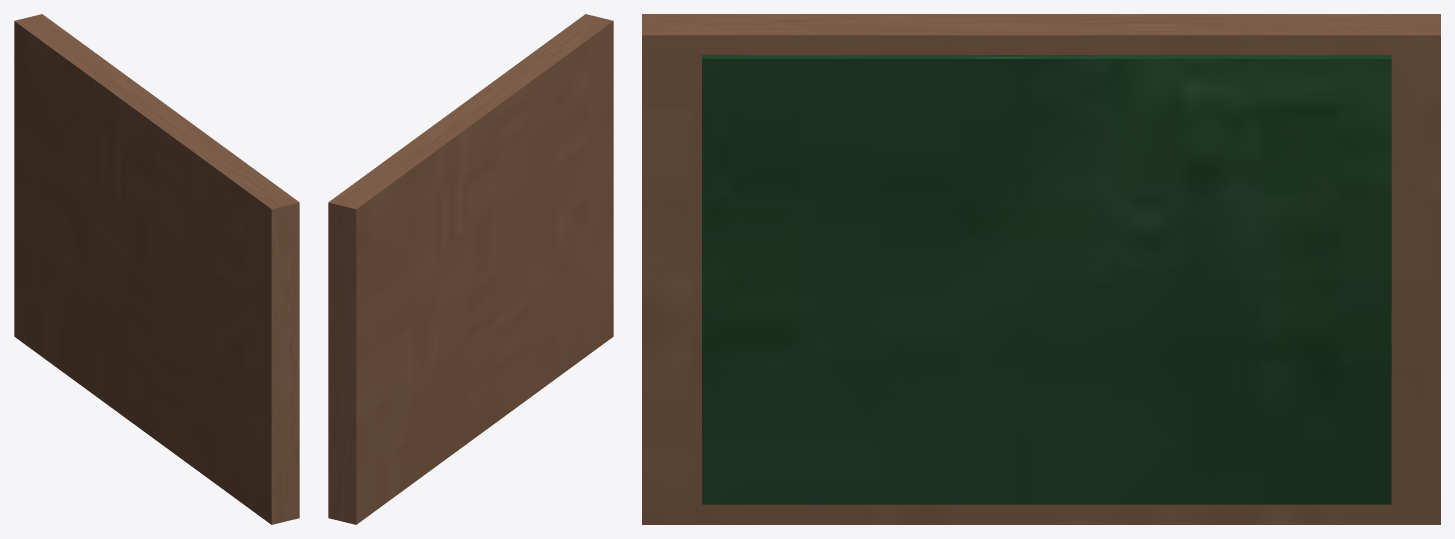
Rendered from pizarra.obj.
The picture shows the model from 3 angles, left to right: view 1: azimuth 30°, elevation 25°; view 2: azimuth 150°, elevation 25°; view 3: azimuth 270°, elevation 25°; orthographic projection. The views are drawn at different scales.
Visible parts, largest first — view 1: pCube1; view 2: pCube1; view 3: pasted__pCube1 group1, pCube1.
Boxes of the visible parts, left/top/right/bottom form: pCube1: left=14, top=14, right=299, bottom=524; pCube1: left=328, top=14, right=613, bottom=524; pasted__pCube1 group1: left=702, top=55, right=1391, bottom=504; pCube1: left=642, top=14, right=1440, bottom=524.
Bounding box in the file's own units: 0.1552 × 1.4 × 2.08.
Materials: 2 (2 with a texture image).
